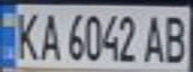0: (81, 10, 103, 62)
2: (118, 10, 142, 63)
4: (103, 11, 124, 62)
6: (63, 9, 84, 62)
A: (139, 11, 169, 64), (36, 8, 63, 61)
B: (160, 11, 193, 64)
K: (9, 8, 42, 61)
